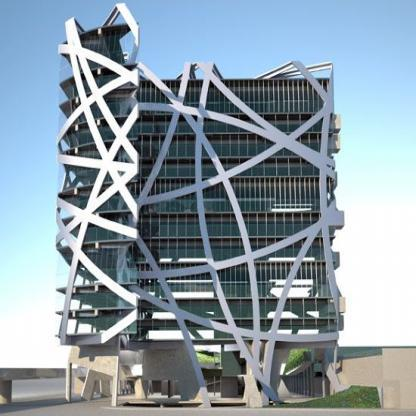Balcony: (138, 325, 337, 339), (138, 306, 335, 319), (138, 285, 334, 298), (59, 51, 138, 83), (138, 250, 331, 263), (139, 145, 331, 158), (139, 102, 331, 115), (59, 101, 138, 132), (57, 165, 138, 194), (60, 74, 138, 104), (138, 200, 331, 212), (139, 165, 331, 177), (138, 225, 330, 237), (57, 126, 138, 154), (57, 195, 136, 220), (56, 224, 136, 248), (55, 268, 138, 289), (139, 125, 331, 134), (55, 292, 135, 311), (55, 317, 137, 334)
Building Outline: (54, 2, 346, 409)
Facade: (55, 2, 346, 408)
